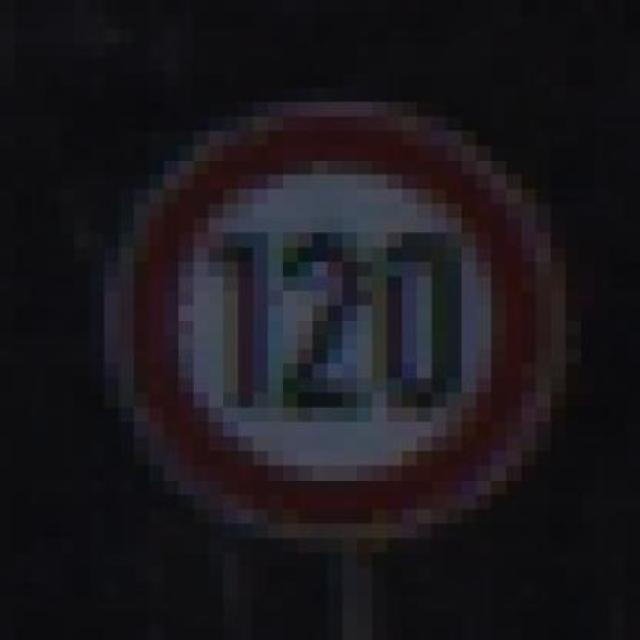forb_speed_over_120: (130, 111, 553, 531)
